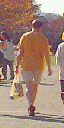person: (15, 13, 52, 115)
